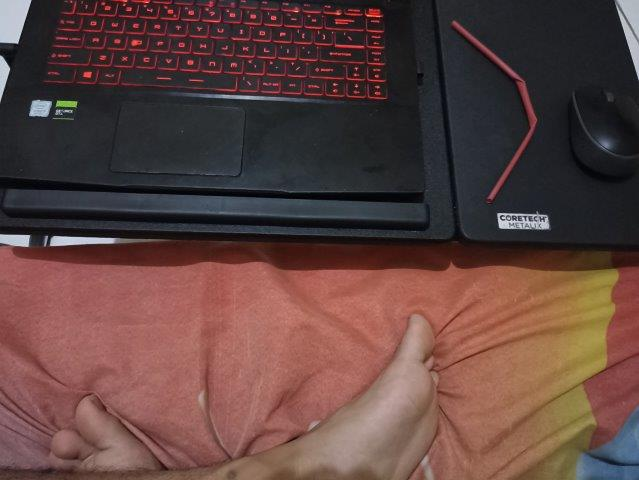sedotan: (451, 20, 538, 203)
